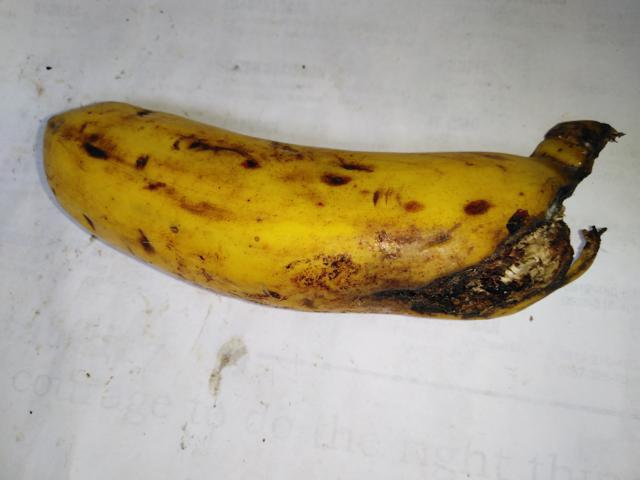ripe: (49, 60, 410, 361)
rotten: (379, 109, 625, 340)
